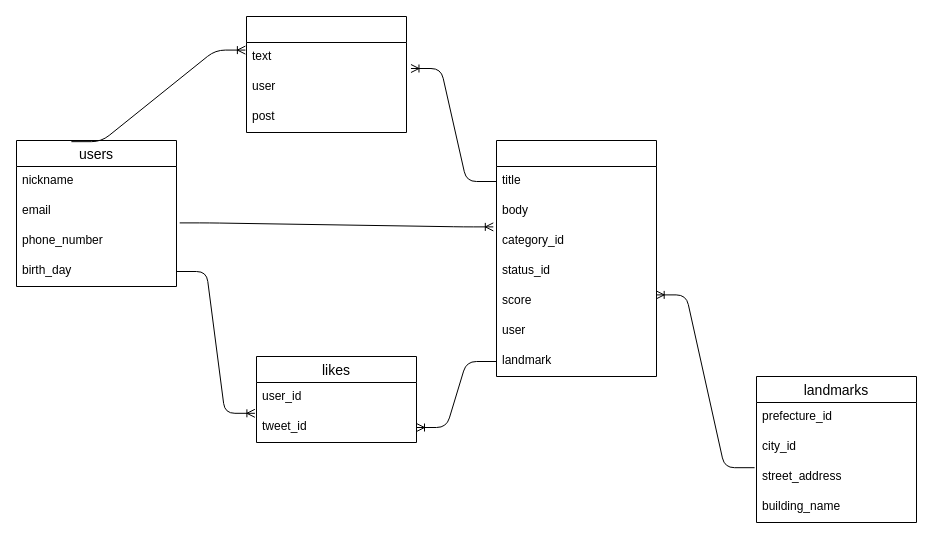
Some shapes in this 933 by 539 pixel diagram are drawn without their labels. Here are the shapes that lost their labels. From the top down, the box of each, then its label:
(246, 16, 406, 132): comments
(496, 140, 656, 376): posts
